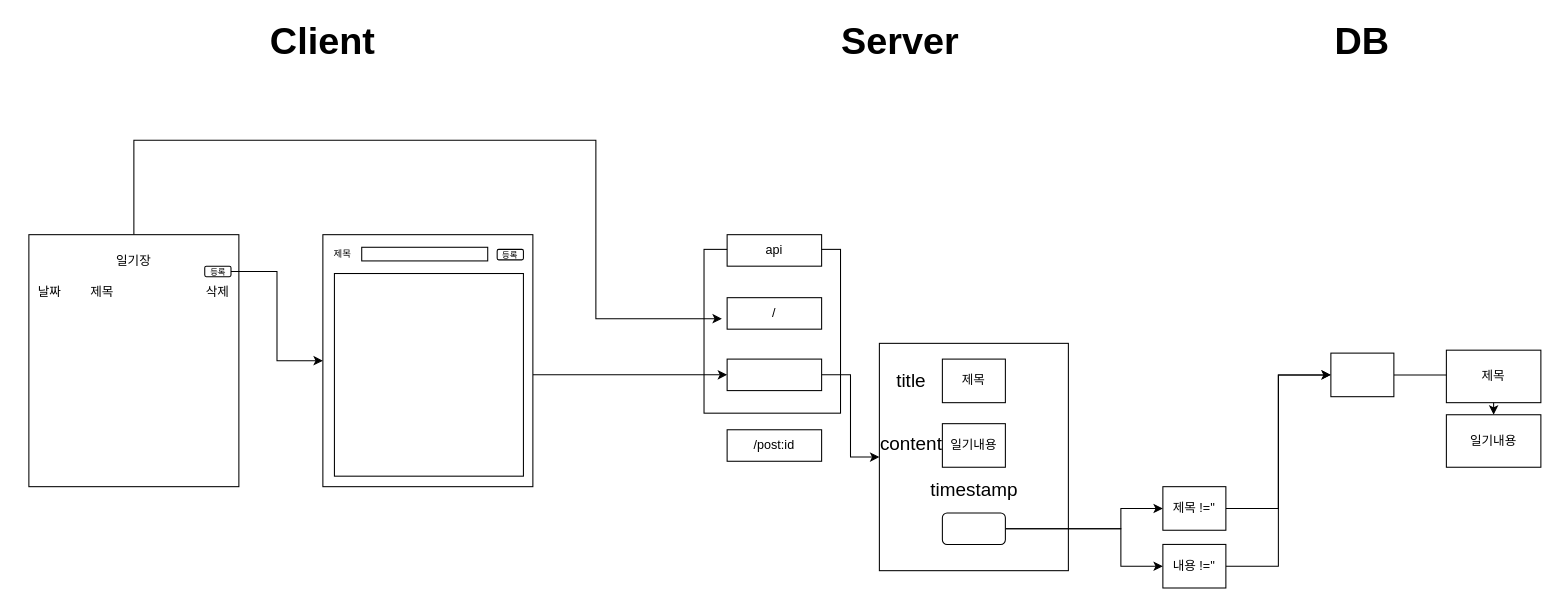
This 1559x607 diagram has some shape labels left out. Here are the shapes that lost their labels. From the top down, the centre of each, then its label:
the point at 774,374: /post
the point at 1362,374: id번호
the point at 973,528: 등록버튼
